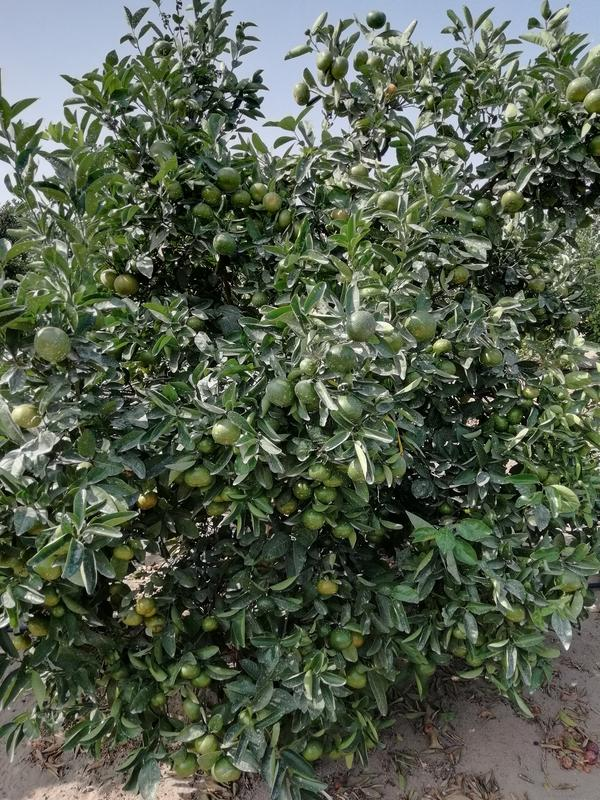mandarina verde: (34, 326, 73, 364), (345, 311, 378, 340), (408, 310, 437, 343), (265, 380, 295, 408), (12, 404, 41, 431), (328, 346, 357, 373), (212, 419, 242, 445), (211, 758, 242, 782), (297, 380, 318, 409), (212, 231, 238, 254), (184, 468, 213, 488), (218, 167, 244, 189), (190, 203, 217, 224), (173, 755, 198, 777), (501, 189, 524, 212), (114, 274, 139, 295), (307, 462, 333, 482), (262, 191, 283, 214), (567, 76, 588, 99), (304, 511, 327, 531), (333, 519, 354, 540), (378, 190, 398, 212), (431, 336, 453, 356), (292, 82, 311, 105), (184, 698, 202, 722), (316, 577, 340, 595), (331, 630, 352, 650), (366, 9, 387, 29), (230, 190, 252, 209), (203, 183, 222, 205), (481, 348, 503, 367), (195, 734, 218, 752), (347, 458, 364, 482), (137, 598, 158, 617), (315, 48, 332, 71), (255, 598, 279, 614), (348, 670, 368, 689), (250, 180, 267, 202), (316, 487, 338, 503), (333, 56, 349, 78), (475, 198, 493, 217), (114, 545, 135, 561), (305, 743, 323, 761), (508, 408, 524, 426), (585, 92, 600, 111), (180, 664, 200, 678), (137, 496, 157, 510), (45, 588, 59, 608), (202, 616, 219, 632)
